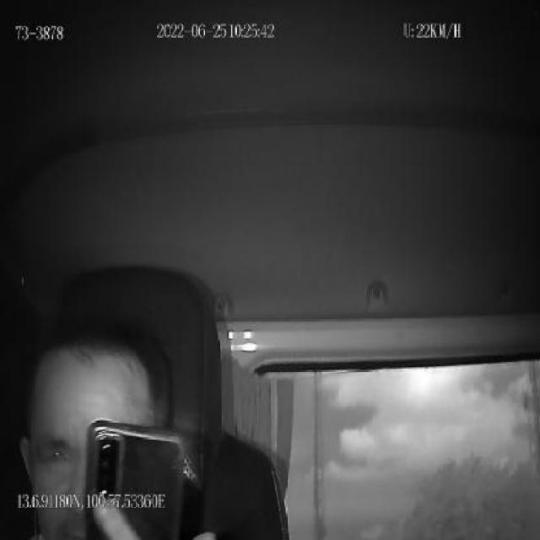phone: (85, 417, 186, 540)
